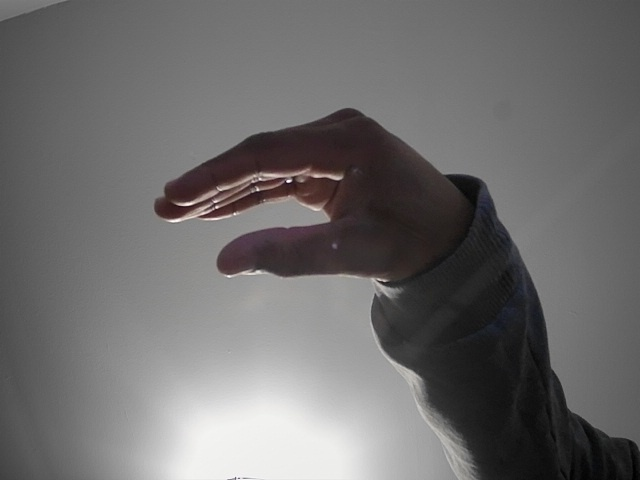No: (138, 94, 500, 309)
